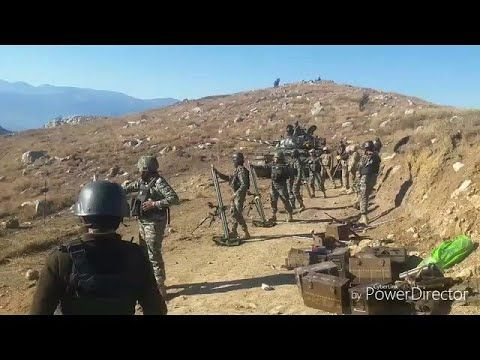uniform: (40, 179, 171, 318), (114, 150, 177, 289), (220, 149, 257, 234), (261, 147, 290, 220), (355, 140, 380, 222), (303, 143, 328, 192), (346, 136, 362, 197), (318, 145, 337, 188)
